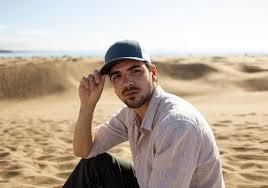cap: (96, 35, 158, 75)
